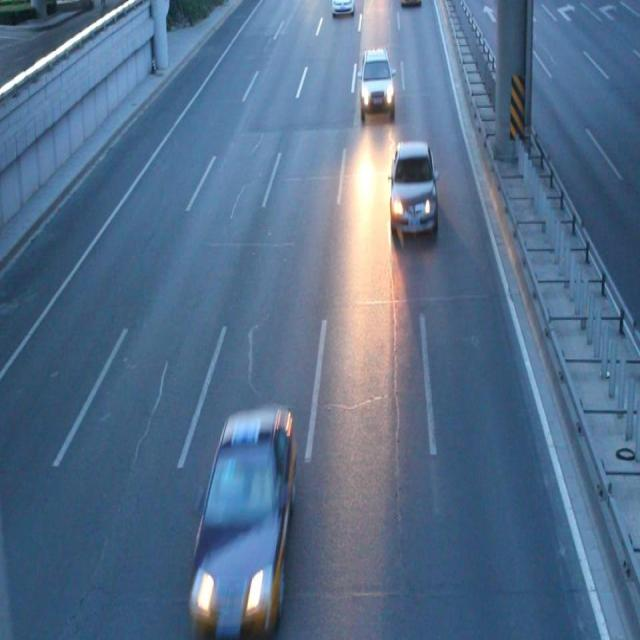car: (185, 407, 296, 640), (387, 140, 438, 238), (358, 49, 394, 117)
